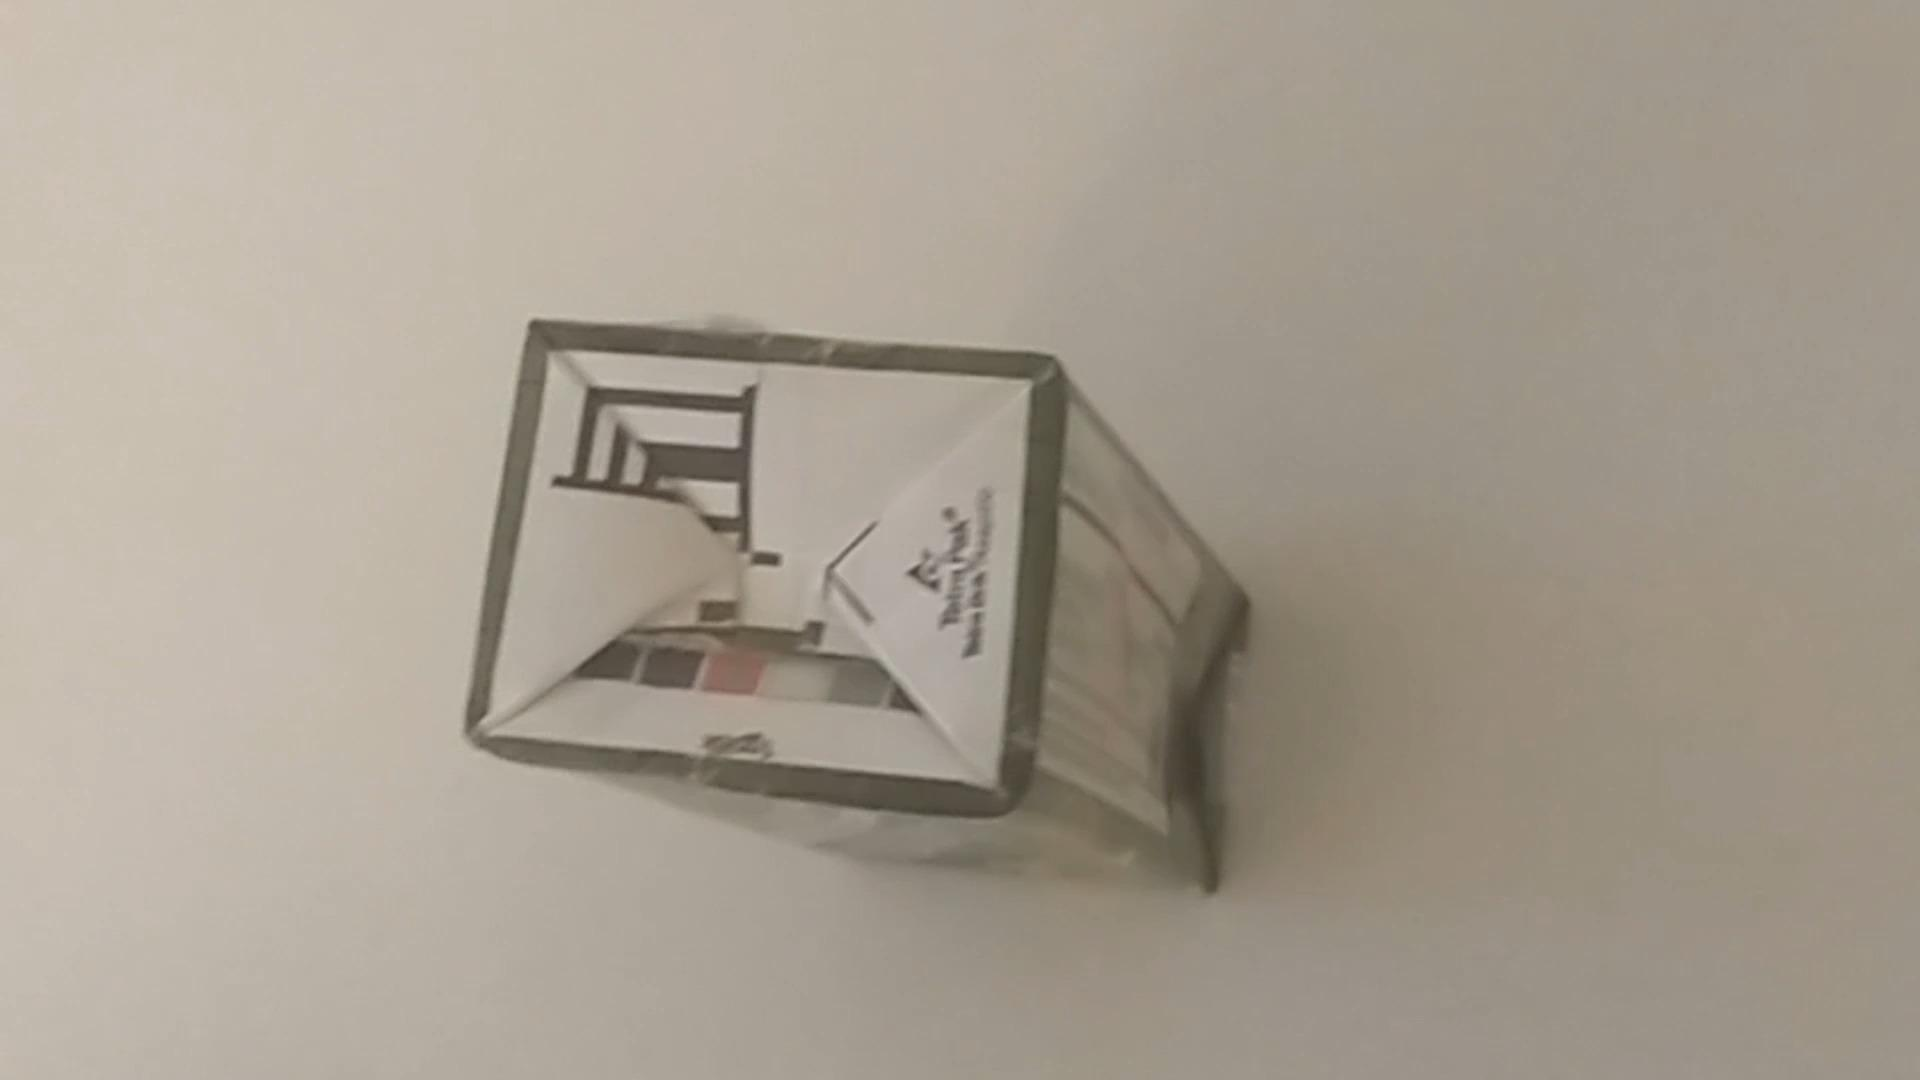coco: (485, 290, 1270, 915)
